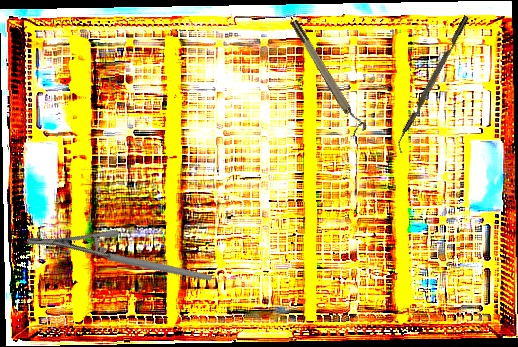Chopper: (391, 15, 476, 154)
Fixation Ring: (288, 15, 369, 137)
Needle Holder: (25, 185, 213, 335)
